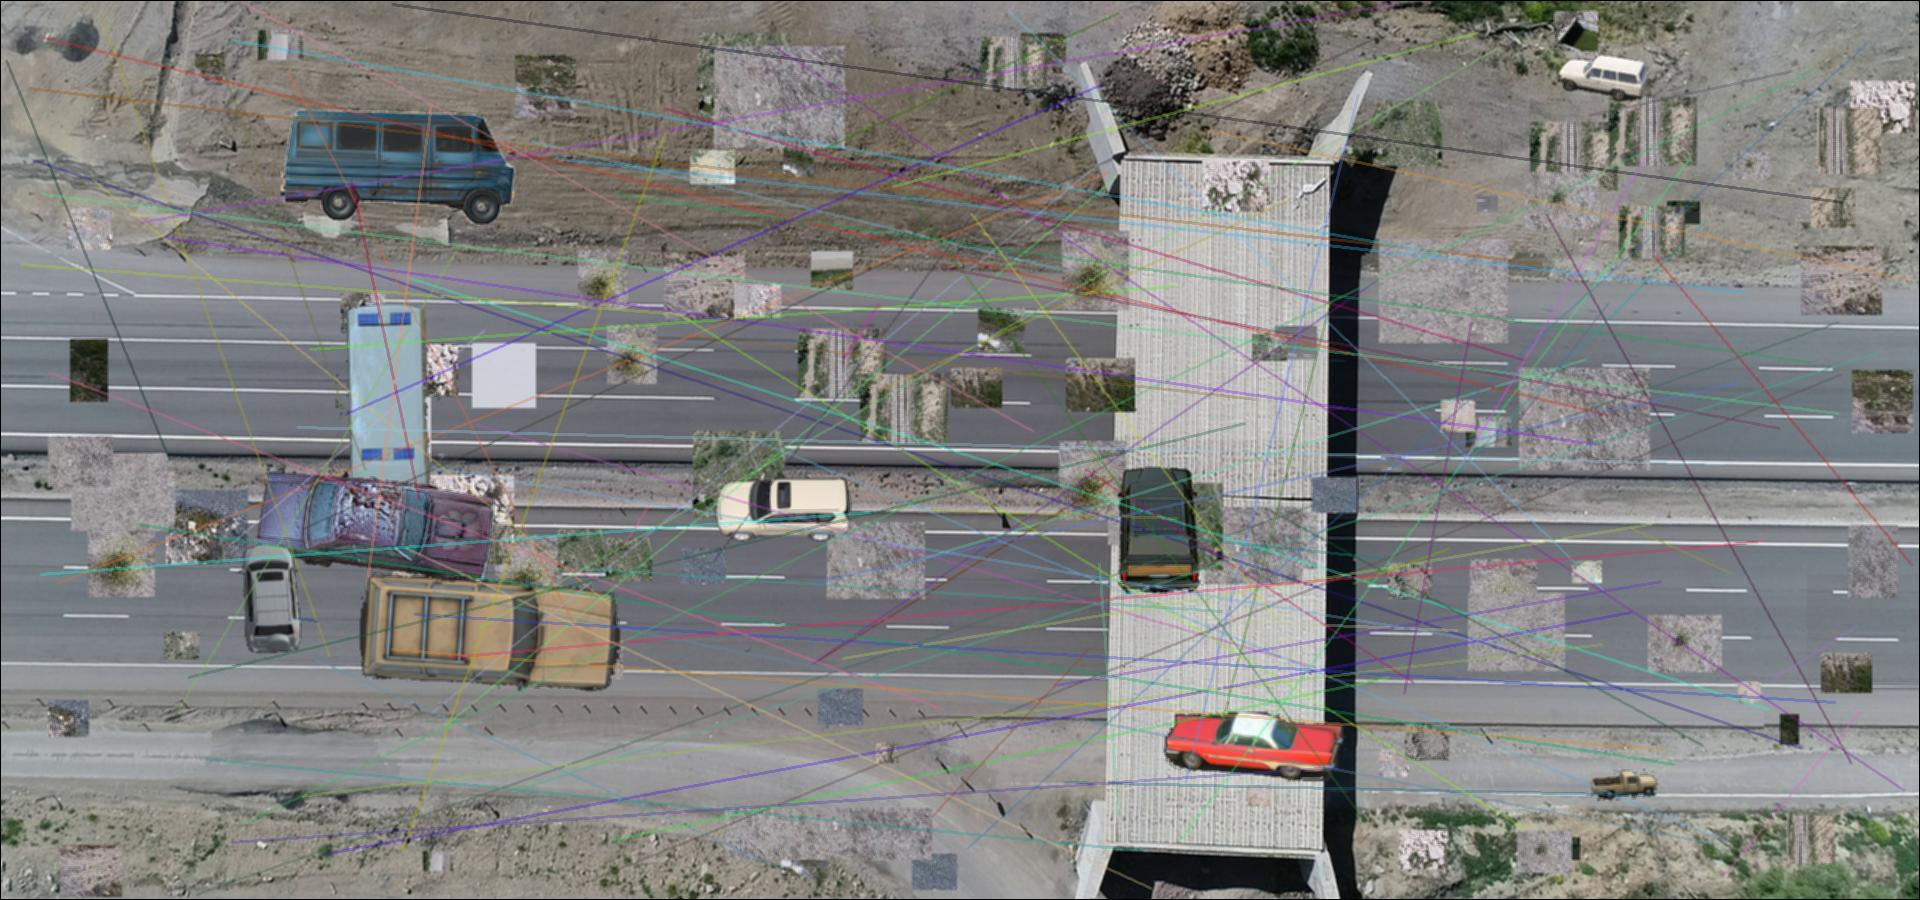arac: (358, 569, 631, 700), (250, 460, 497, 590), (336, 301, 449, 558), (280, 108, 516, 228), (1163, 711, 1348, 781), (1111, 467, 1202, 593), (708, 471, 858, 541), (235, 542, 307, 654), (1558, 51, 1649, 103), (1591, 769, 1658, 802)
